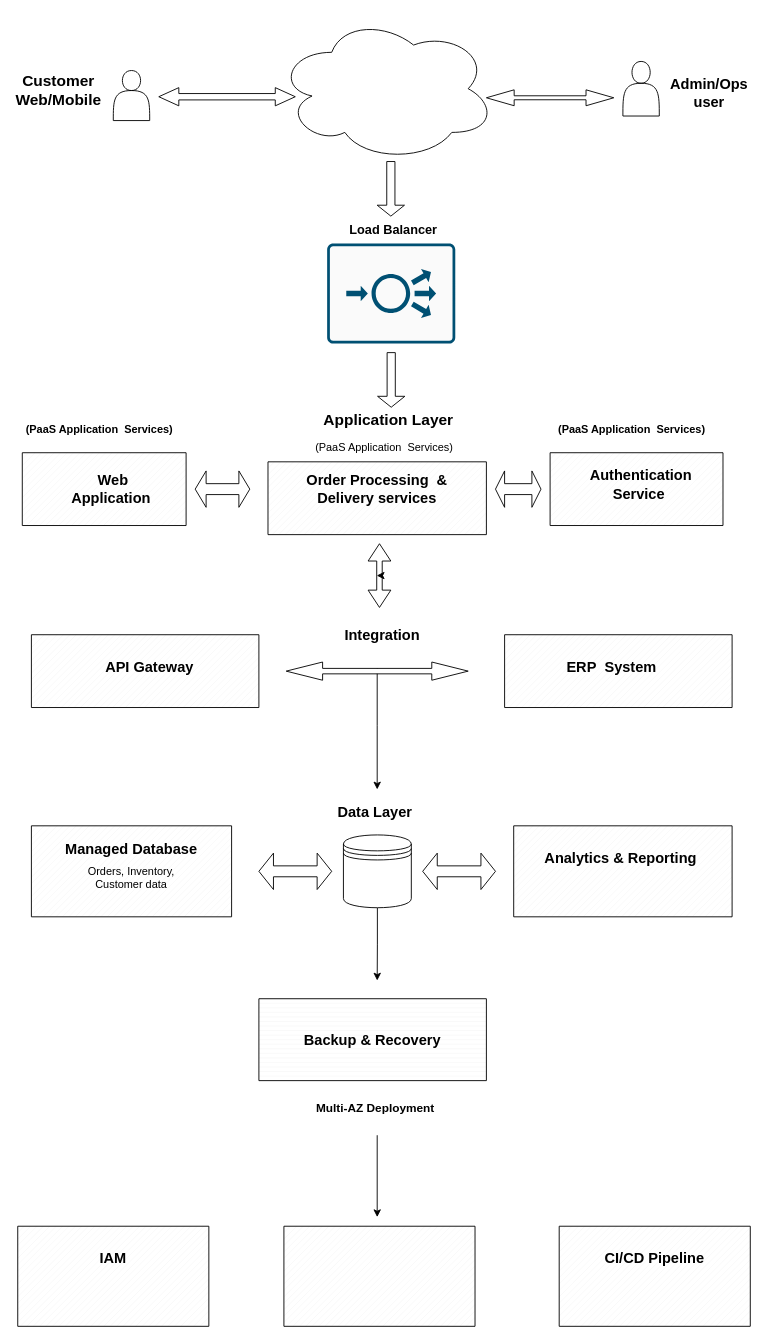
Some shapes in this 766 by 1342 pixel diagram are drawn without their labels. The centre of each missing label's shape, as x and y in pixels:
"Monitoring & Logging" goes at (x=379, y=1275).
"Website" goes at (x=385, y=88).
